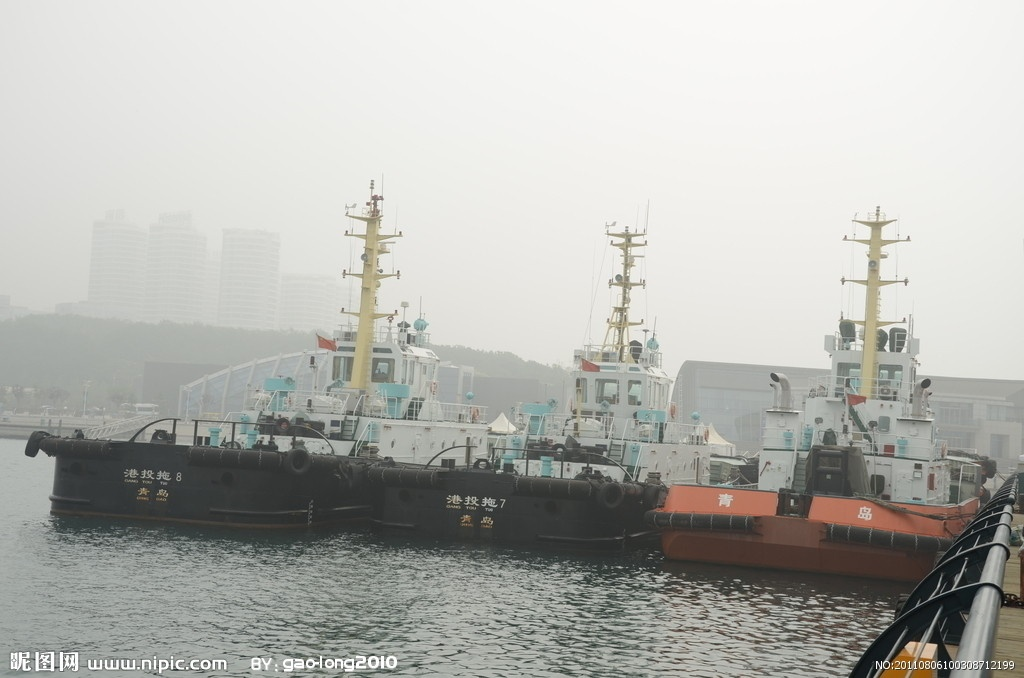otherboat: (30, 169, 486, 536), (360, 214, 727, 571), (663, 216, 1024, 572)
